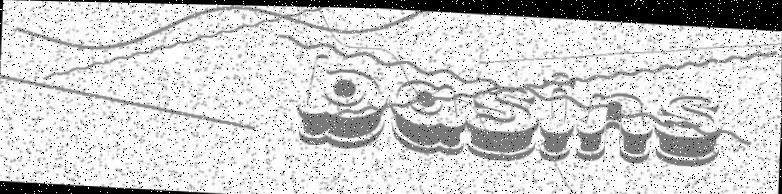a: (387, 76, 469, 155)
b: (294, 49, 389, 150)
i: (540, 68, 577, 162)
n: (575, 87, 655, 163)
s: (465, 82, 543, 163), (653, 89, 724, 165)
